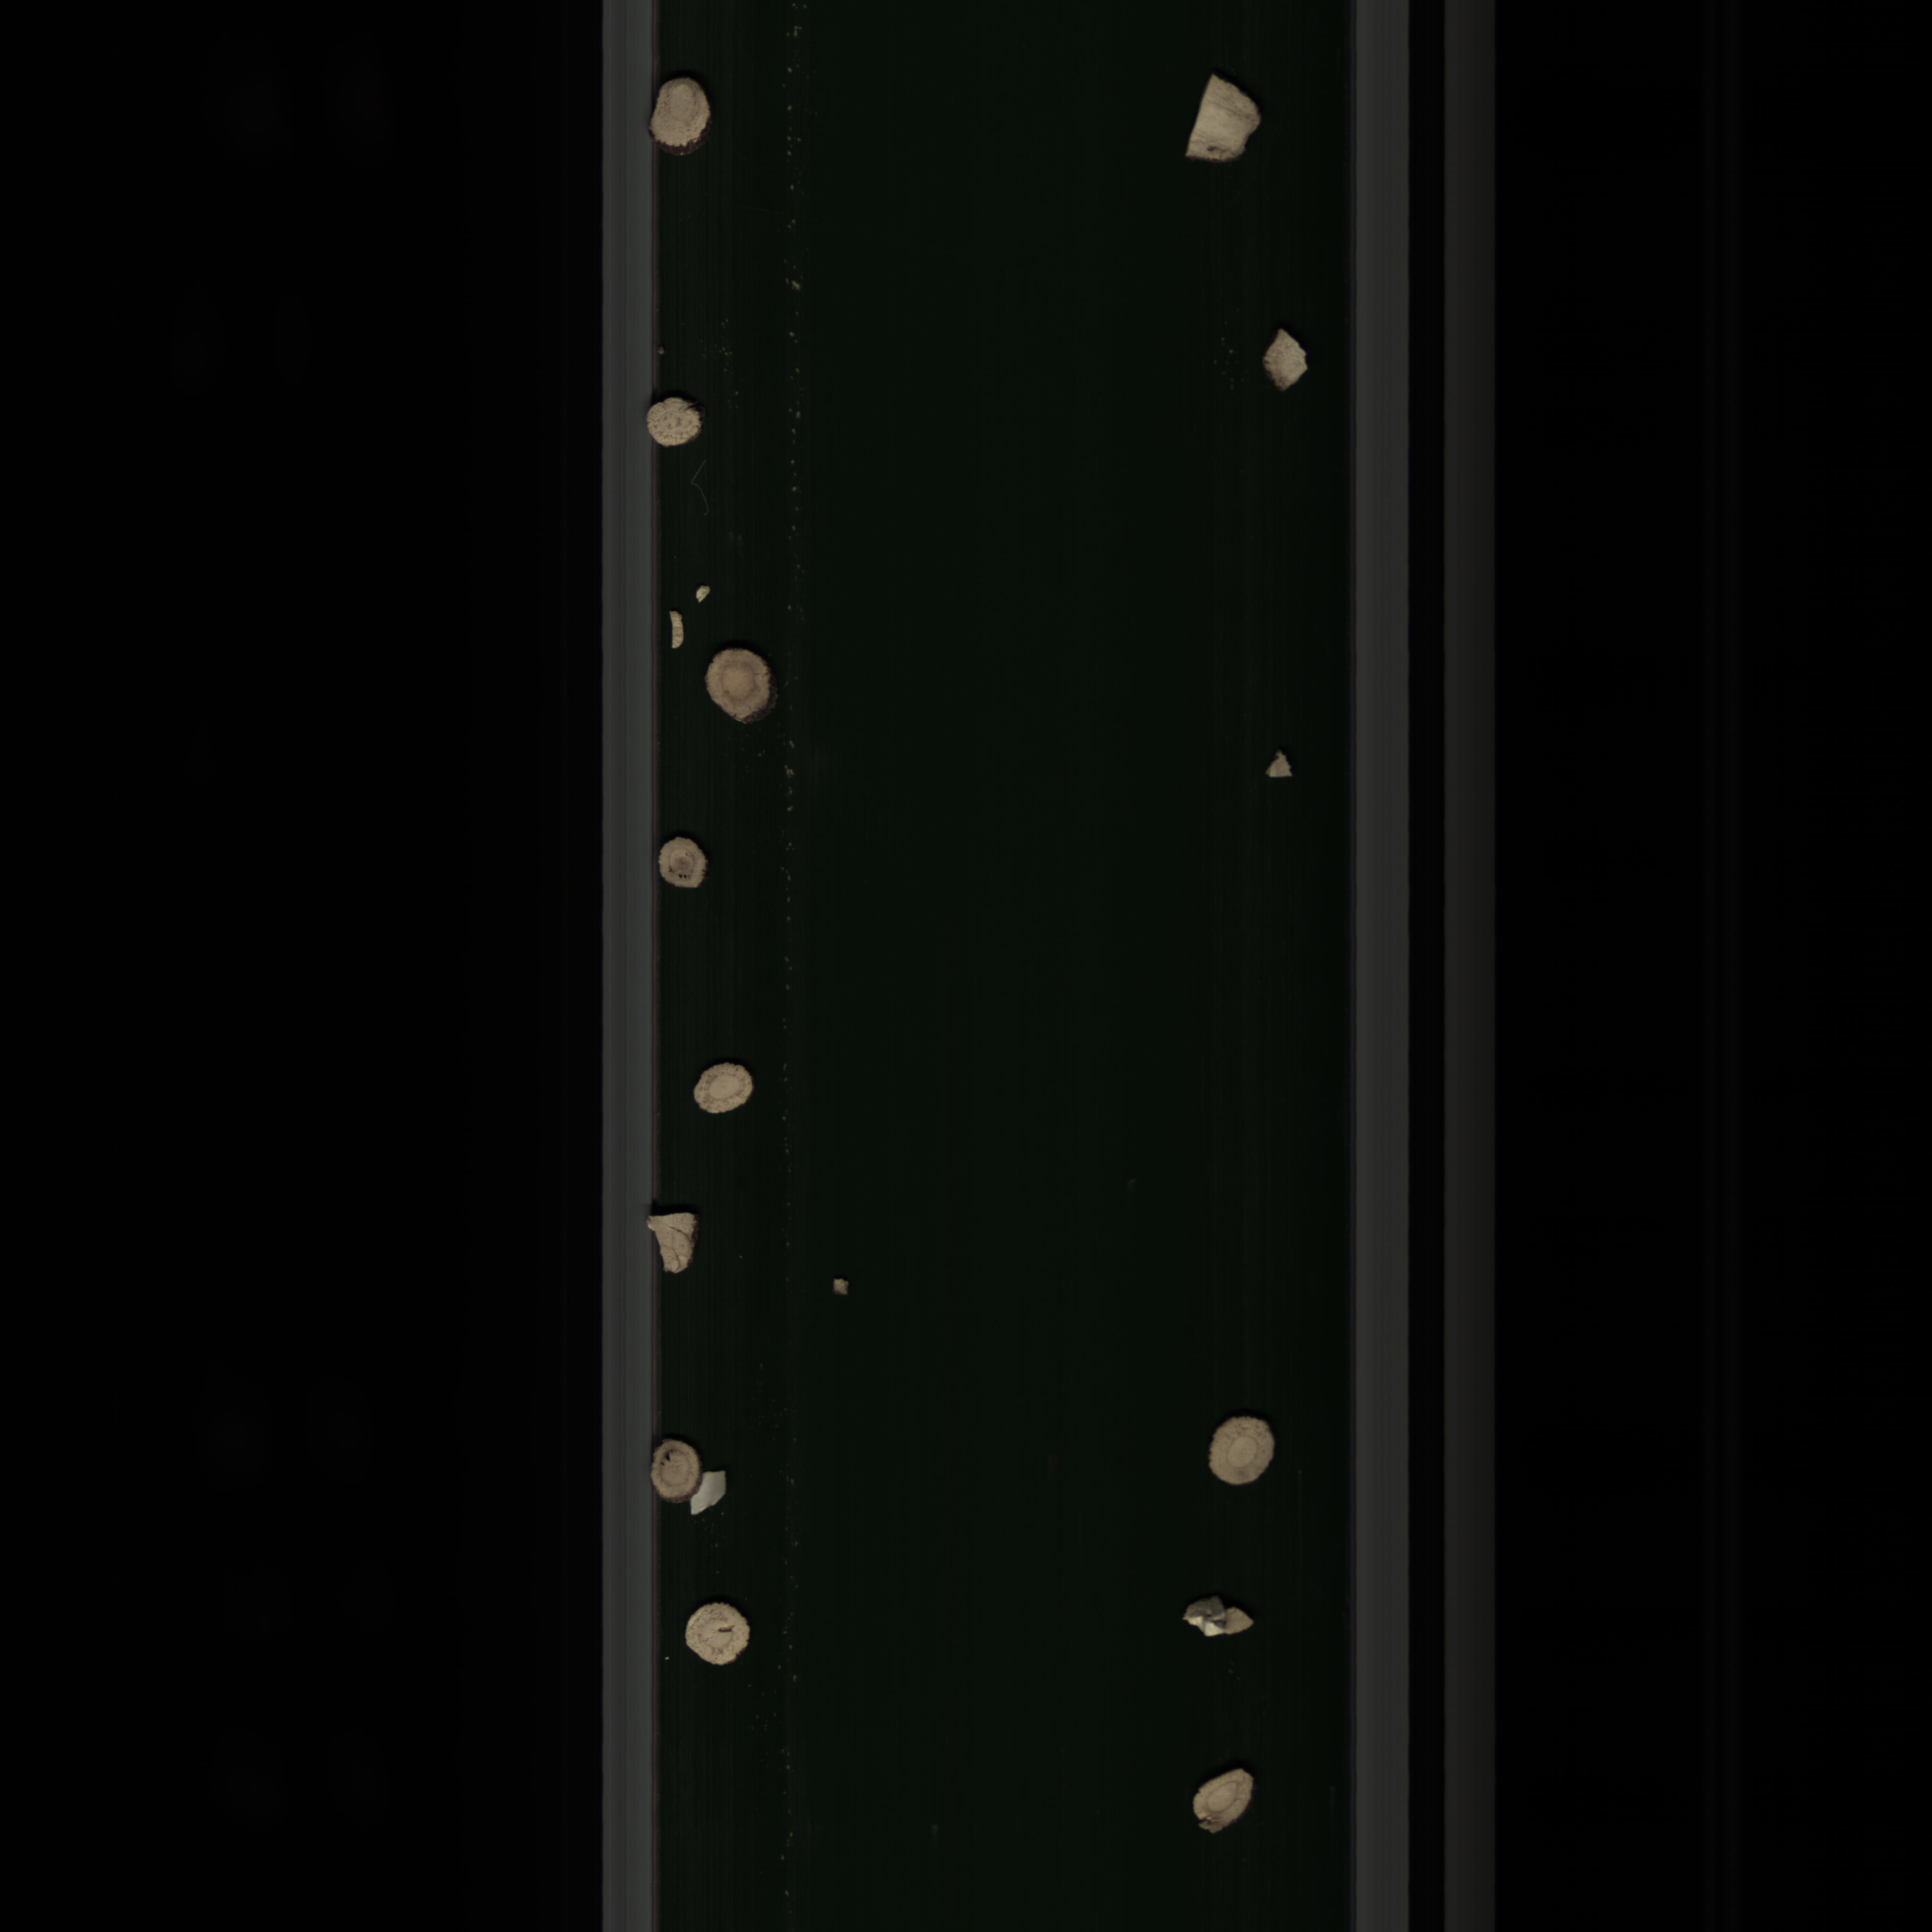bark: (1169, 1596, 1263, 1645)
debris: (1177, 74, 1281, 168), (1185, 1764, 1261, 1845), (1254, 322, 1318, 396), (640, 1210, 701, 1279), (1256, 745, 1302, 787), (663, 605, 686, 655), (686, 584, 717, 600)
hole: (681, 1605, 755, 1670), (648, 1437, 702, 1507), (656, 837, 711, 897)
